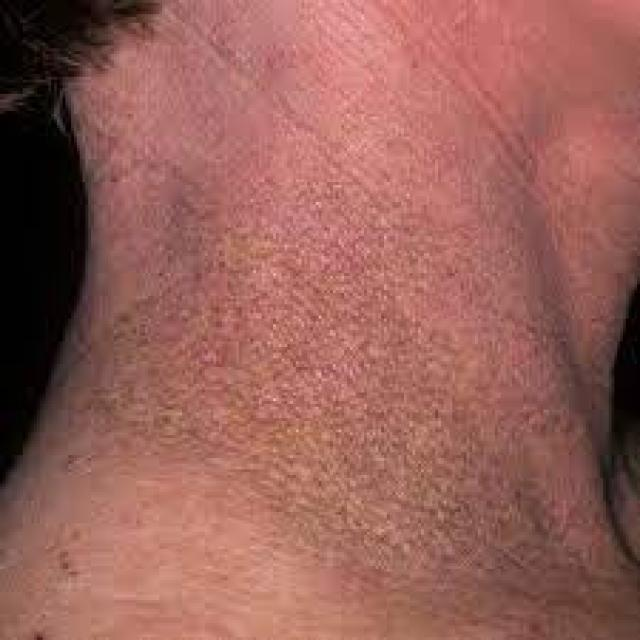Acanthosis Nigricans: (34, 15, 640, 630)
